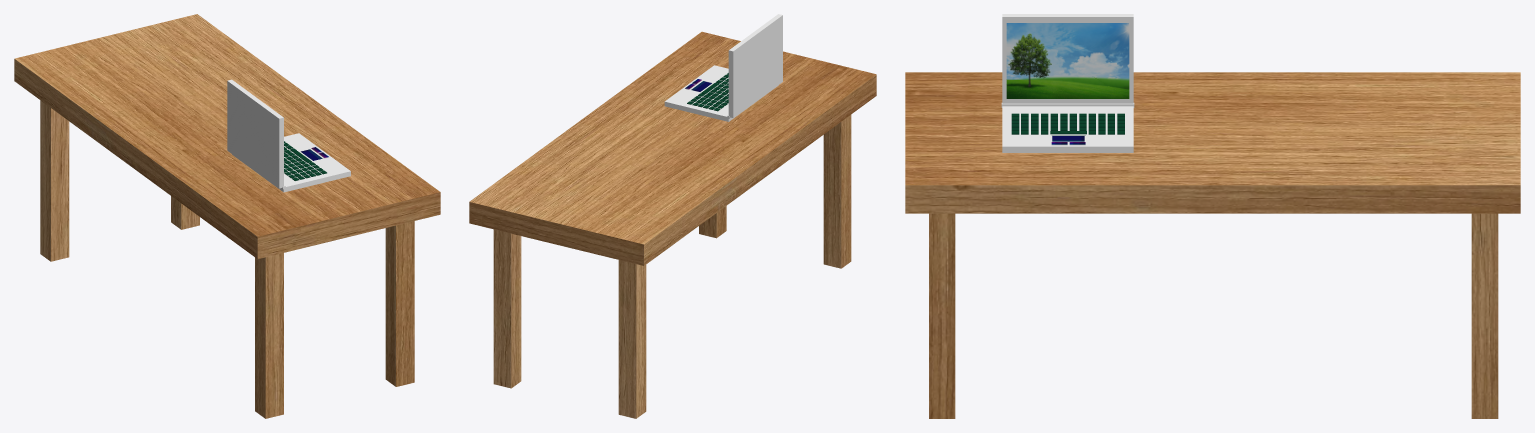
Rendered from laptop on a desk.fbx.
The picture shows the model from 3 angles, left to right: view 1: azimuth 30°, elevation 25°; view 2: azimuth 150°, elevation 25°; view 3: azimuth 270°, elevation 25°; orthographic projection. The views are drawn at different scales.
Parts seen in each view (by area): view 1: model1:laptop_on_a_desk; view 2: model1:laptop_on_a_desk; view 3: model1:laptop_on_a_desk.
Boxes of the visible parts, x1,y1,x2,y2 form: model1:laptop_on_a_desk: (14,14,440,418); model1:laptop_on_a_desk: (469,14,876,418); model1:laptop_on_a_desk: (905,14,1520,418).
Bounding box in the file's own units: 233 × 326 × 536.
3 materials, 3 textured.
